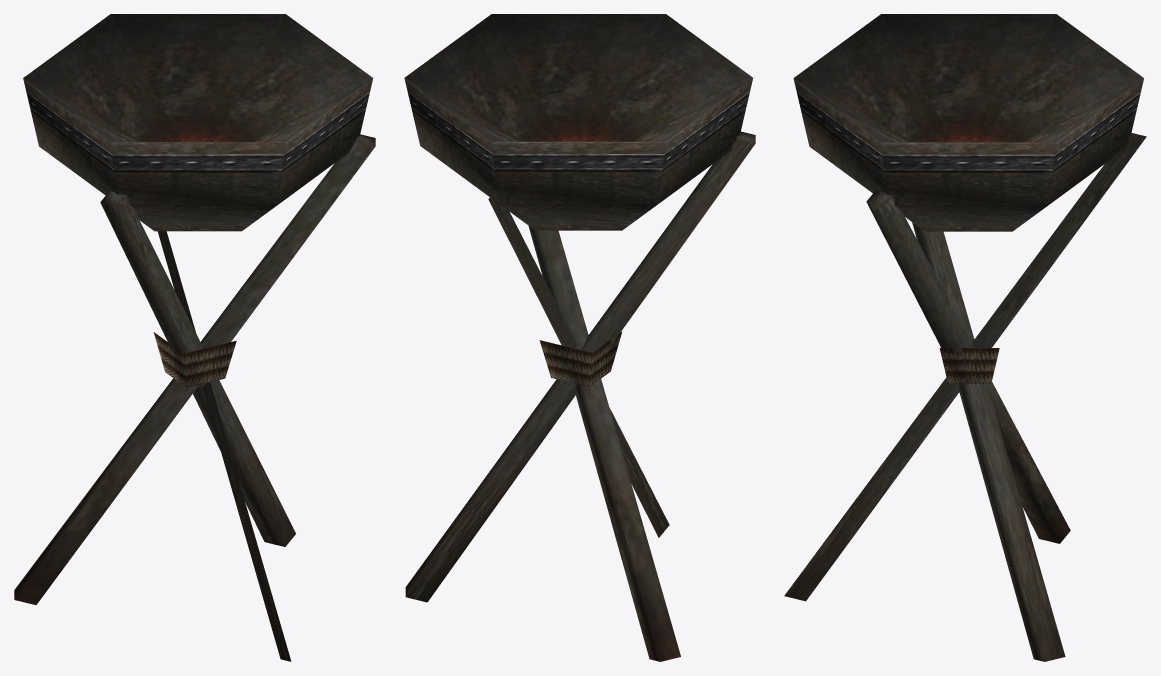
The model's file is cj_enter_fire.glb.
The picture shows the model from 3 angles, left to right: view 1: azimuth 30°, elevation 25°; view 2: azimuth 150°, elevation 25°; view 3: azimuth 270°, elevation 25°; orthographic projection.
Visible parts, largest first — view 1: cj_enter_fire; view 2: cj_enter_fire; view 3: cj_enter_fire.
Boxes of the visible parts, bbox=[...] form: cj_enter_fire: bbox=[14, 14, 375, 661]; cj_enter_fire: bbox=[404, 14, 755, 661]; cj_enter_fire: bbox=[784, 14, 1146, 661].
Size of the model in its own units: 1.13 by 2.03 by 1.27.
Materials: 1 (1 with a texture image).
